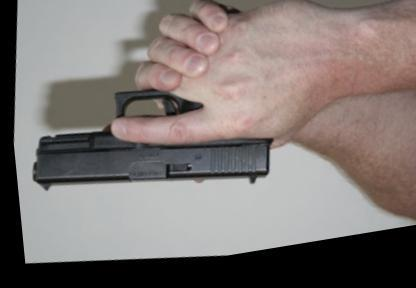pistol: (13, 0, 288, 223)
